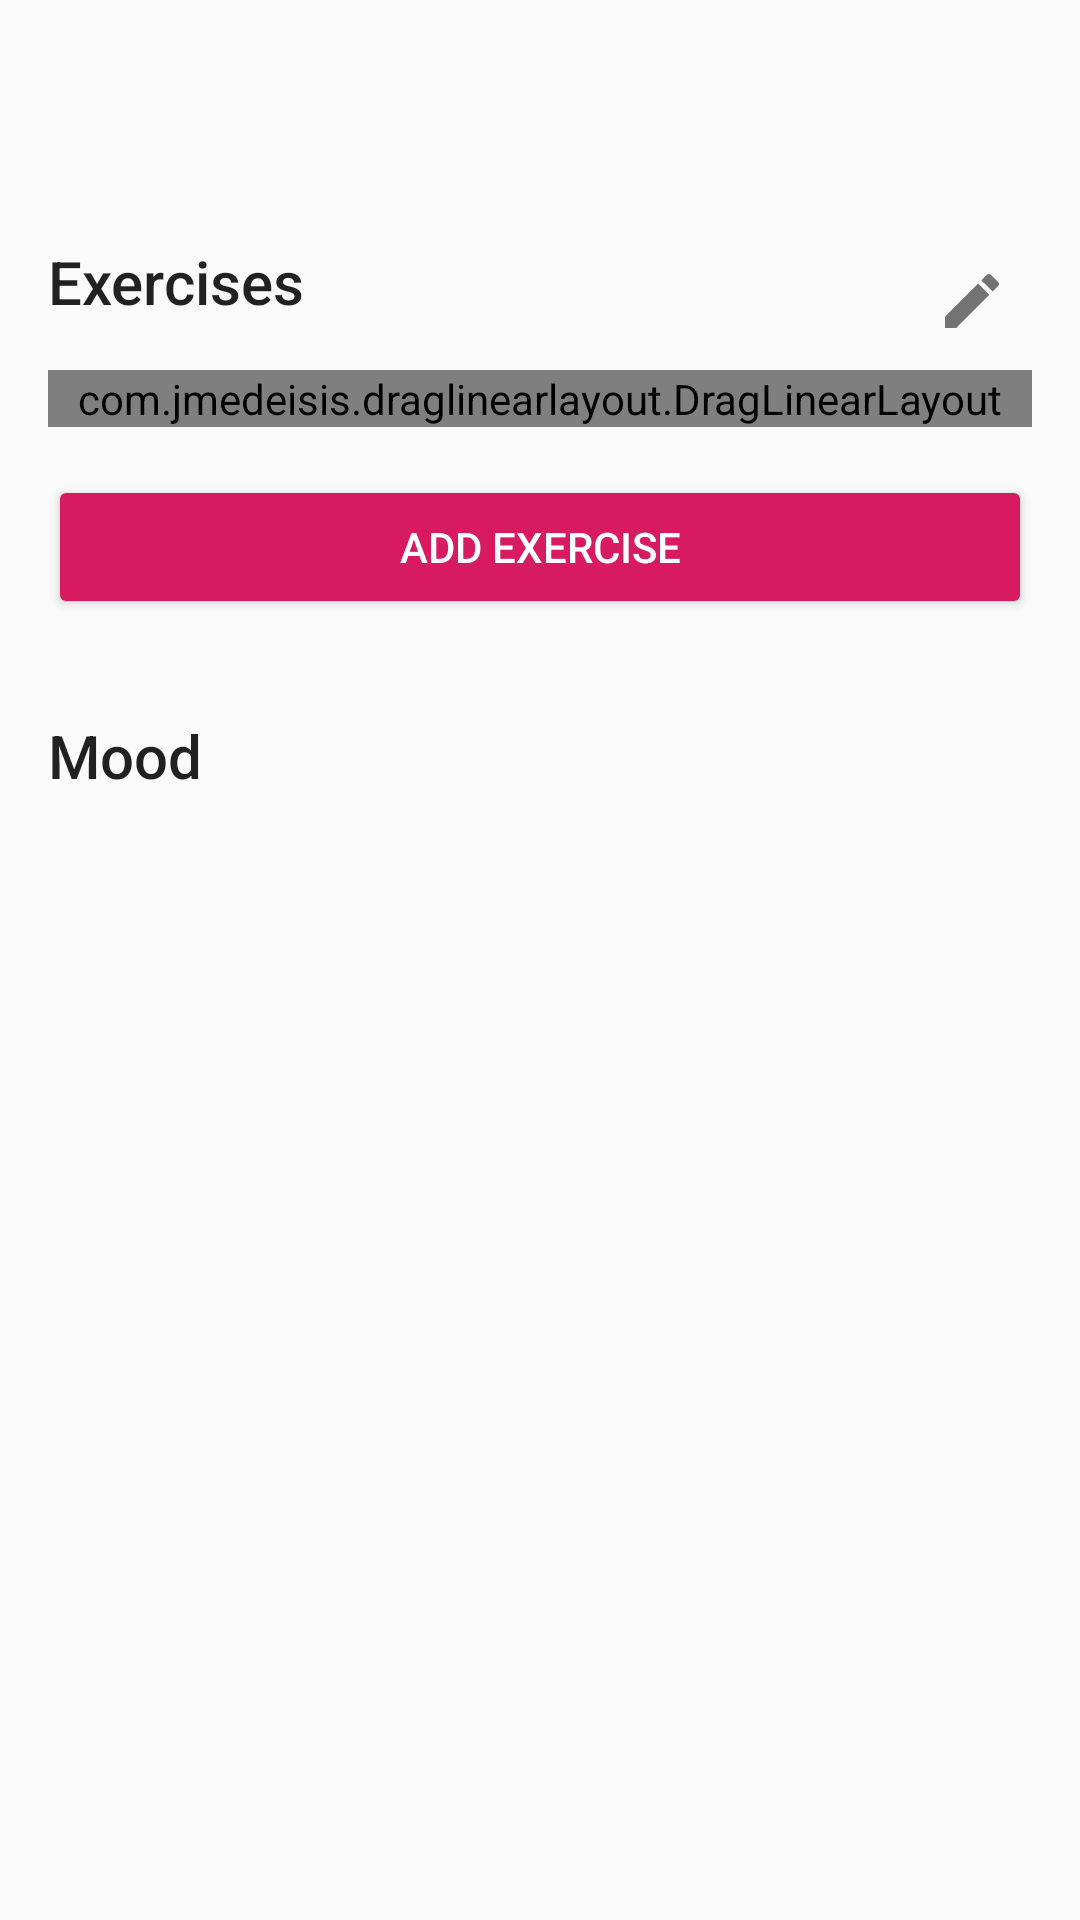

Icon bounding boxes for this 1080*1920 phone screenshot, format (x1, y1, x2, y2):
edit: (945, 274, 999, 328)
